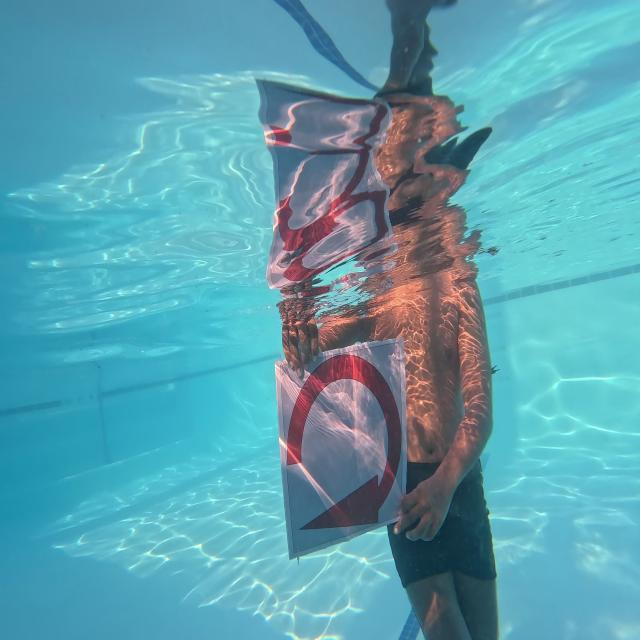red_side: (267, 329, 422, 575)
